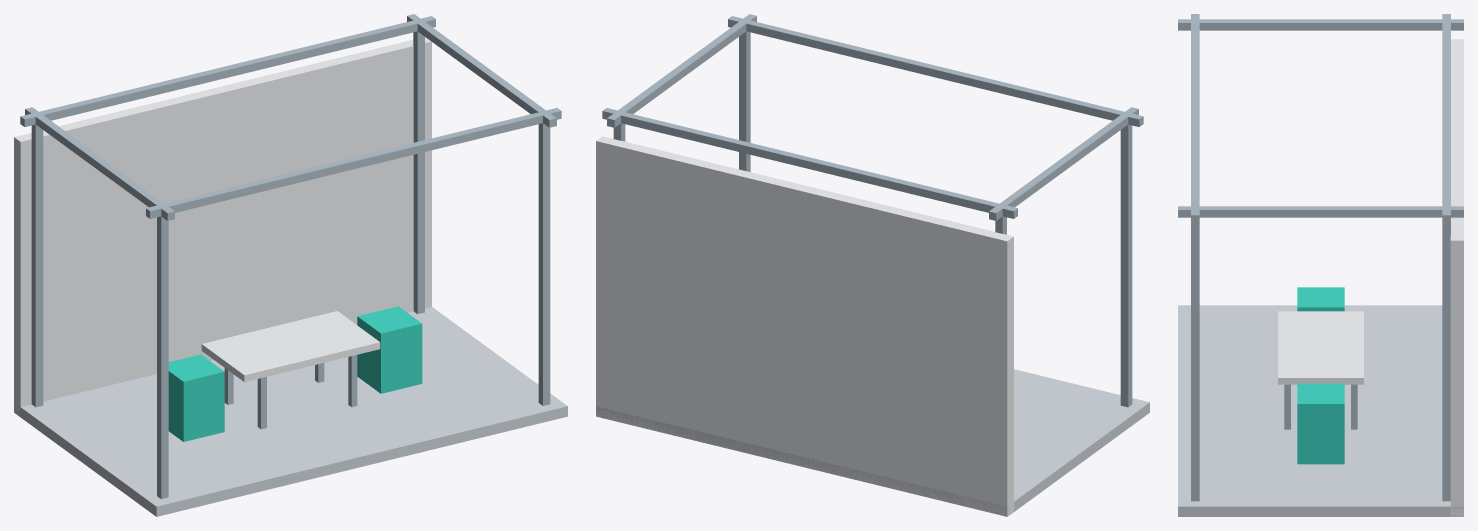
The picture shows the model from 3 angles, left to right: view 1: azimuth 30°, elevation 25°; view 2: azimuth 150°, elevation 25°; view 3: azimuth 270°, elevation 25°; orthographic projection.
Parts seen in each view (by area): view 1: Exhibition Booth Concept; view 2: Exhibition Booth Concept; view 3: Exhibition Booth Concept.
Boxes of the visible parts, left/top/right/bottom form: Exhibition Booth Concept: left=14, top=14, right=567, bottom=516; Exhibition Booth Concept: left=596, top=14, right=1149, bottom=516; Exhibition Booth Concept: left=1178, top=14, right=1463, bottom=516.
Bounding box in the file's own units: 5 × 3.49 × 3.
